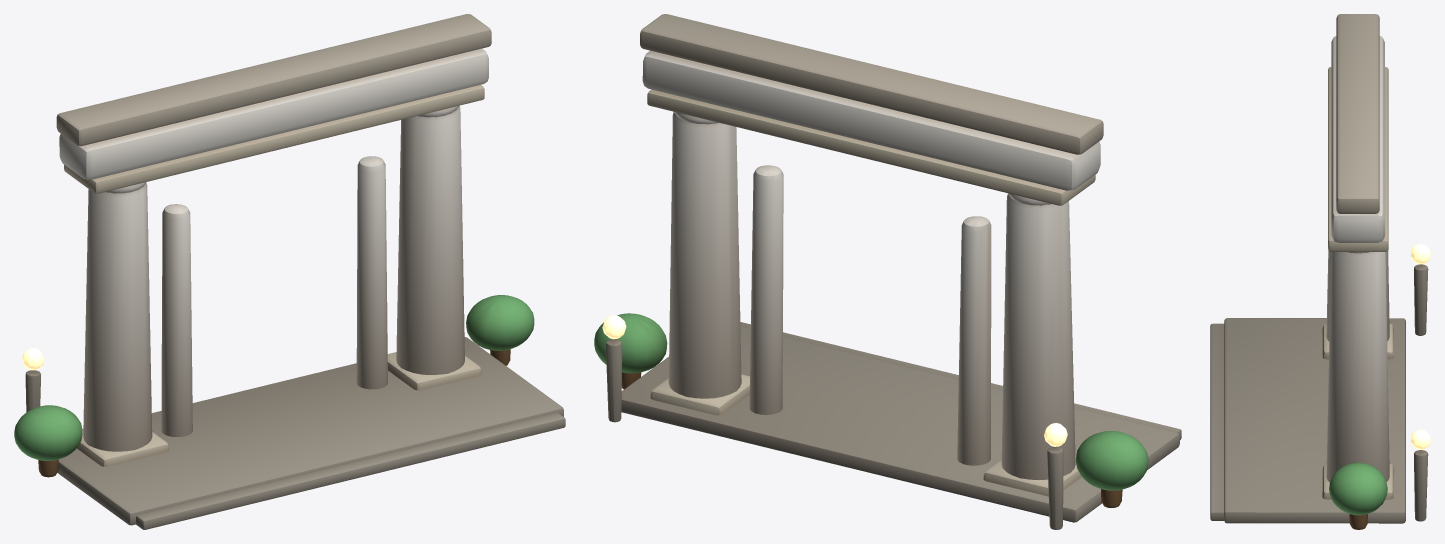
3 renders of one model, left to right at view 1: azimuth 30°, elevation 25°; view 2: azimuth 150°, elevation 25°; view 3: azimuth 270°, elevation 25°, orthographic. The views are drawn at different scales.
Parts seen in each view (by area): view 1: gate_333271d1; view 2: gate_333271d1; view 3: gate_333271d1.
Boxes of the visible parts, box(x1,y1,x2,y2) form: gate_333271d1: box(14, 14, 565, 529); gate_333271d1: box(594, 14, 1181, 529); gate_333271d1: box(1210, 14, 1430, 529).
Size of the model in its own units: 6.28 by 4.11 by 2.54.
